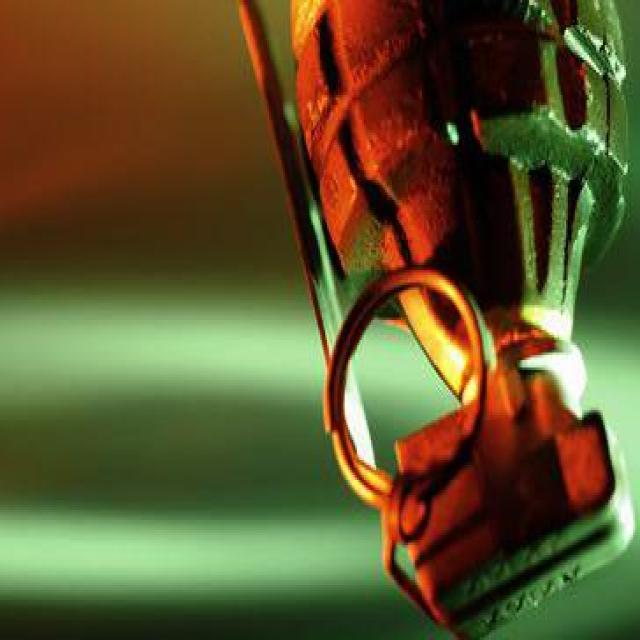grenade: (235, 3, 637, 640)
